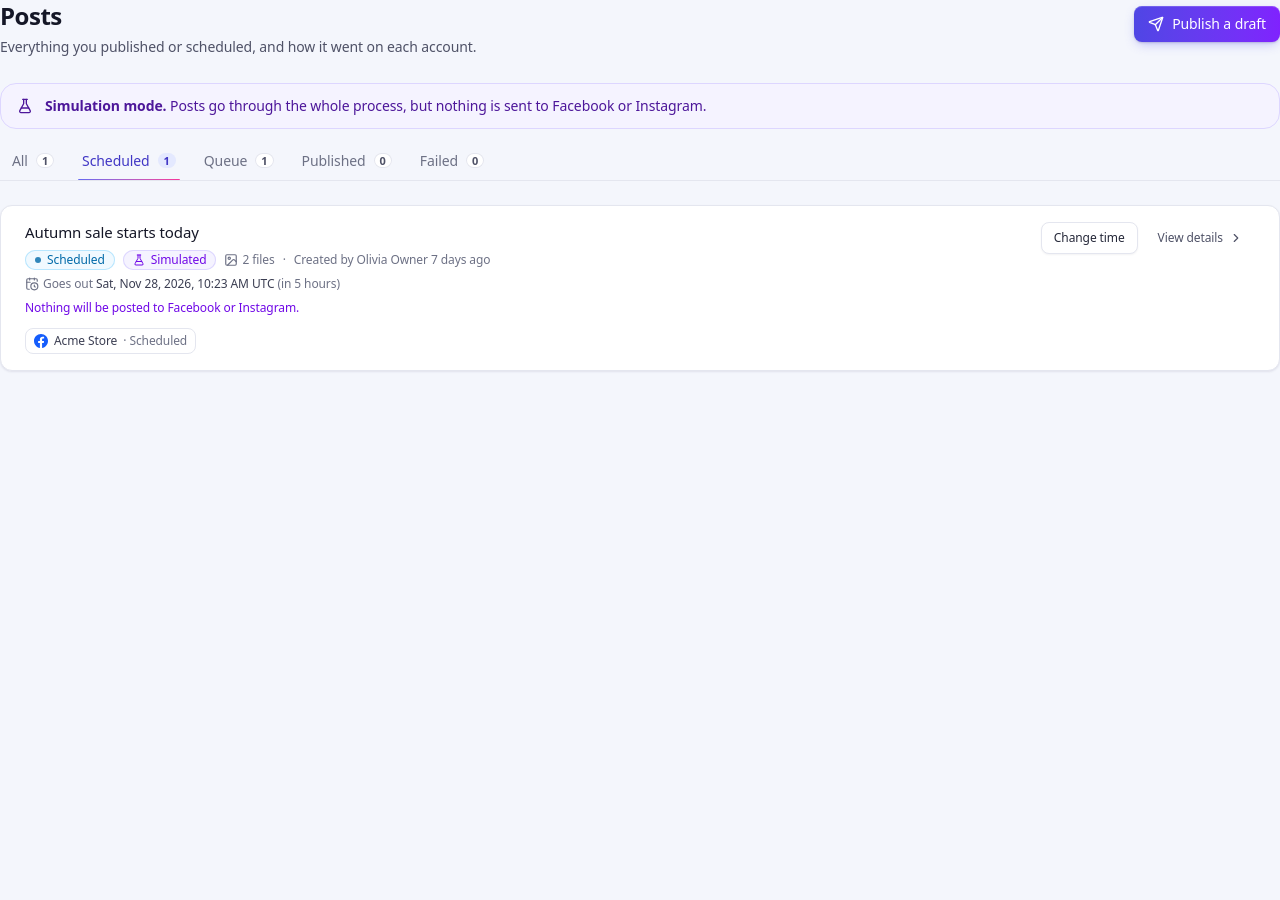
it: changing the time › refuses a past time without asking the server
Step 1. Click the button "Change time" → (1089, 238), box x1=1041 y1=222 x2=1138 y2=254
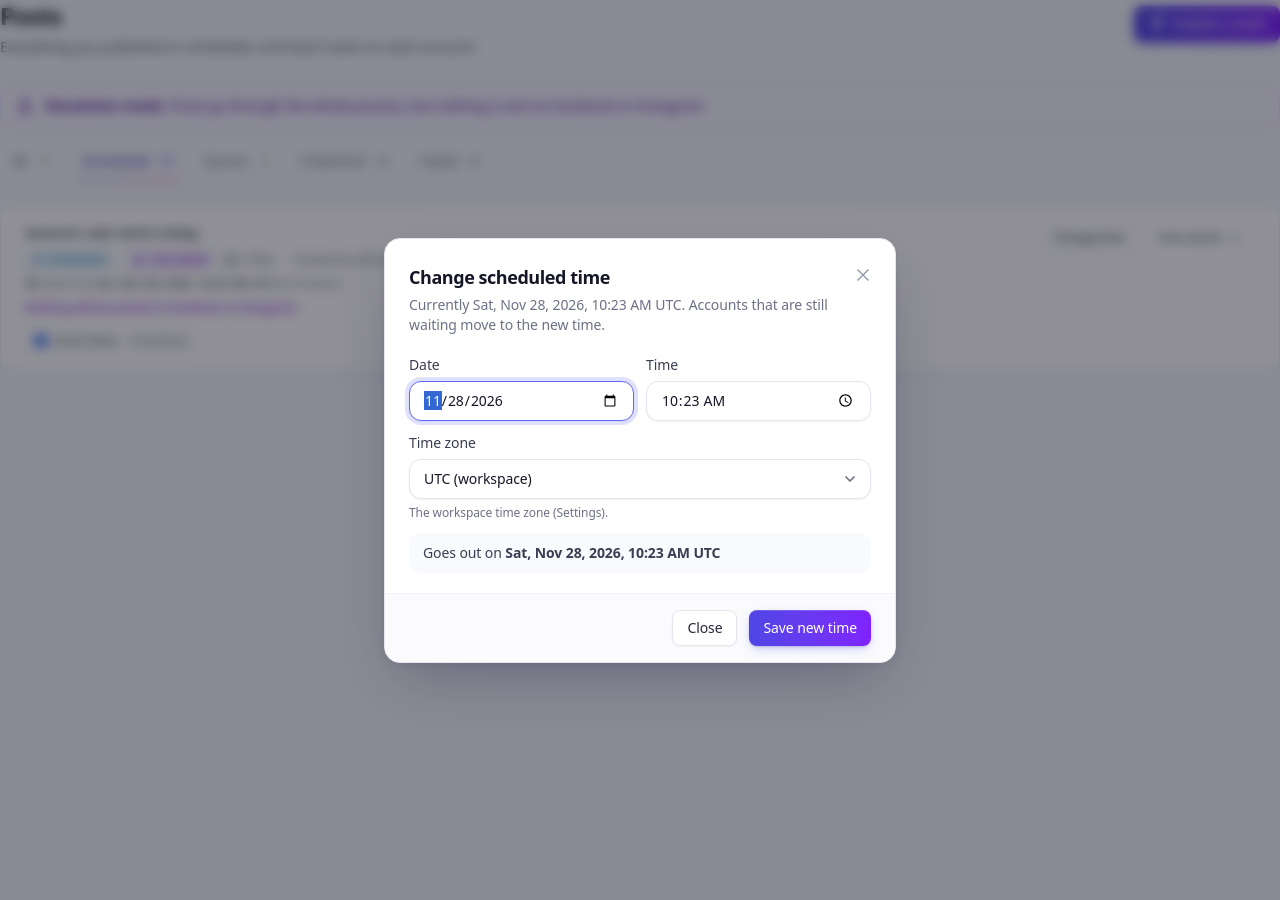
Step 2. Clear the date field labelled "Date" → (522, 400), box x1=409 y1=380 x2=634 y2=420
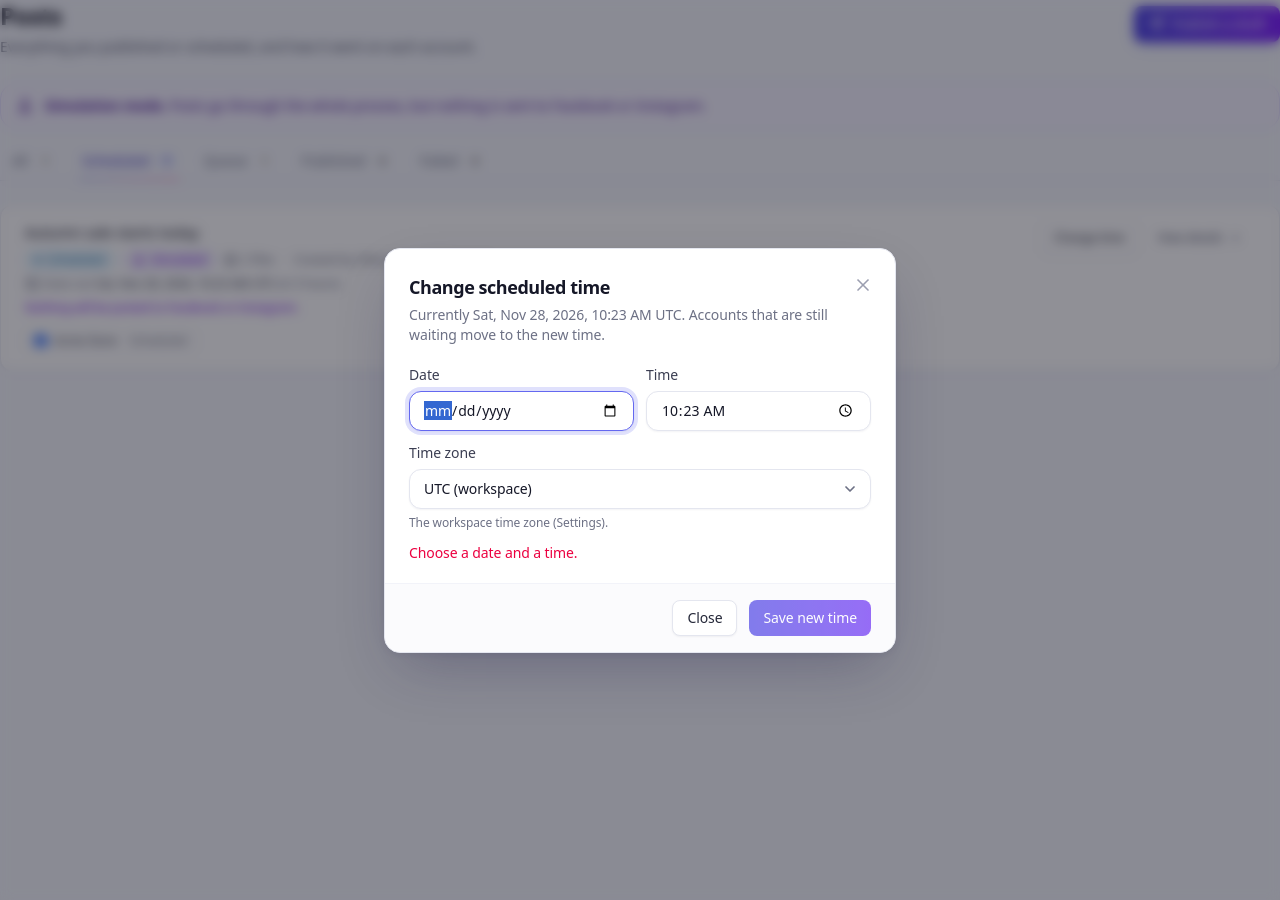
Step 3. Type "2020-05-01" into the date field labelled "Date" → (522, 410), box x1=409 y1=390 x2=634 y2=430
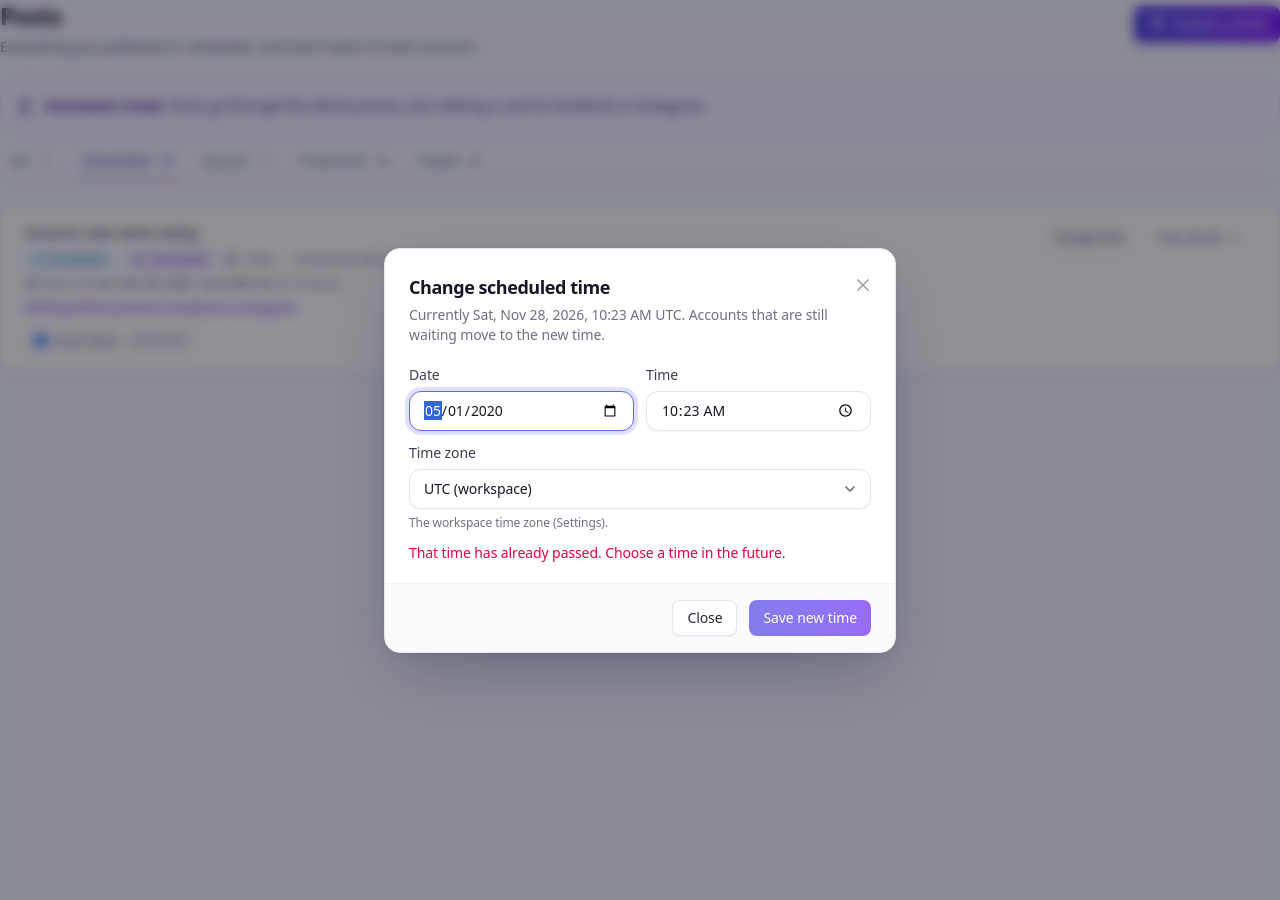
Expected: the button "Save new time" is disabled, x1=750 y1=600 x2=871 y2=636
Expected: the message shows "already passed", x1=409 y1=542 x2=785 y2=562
